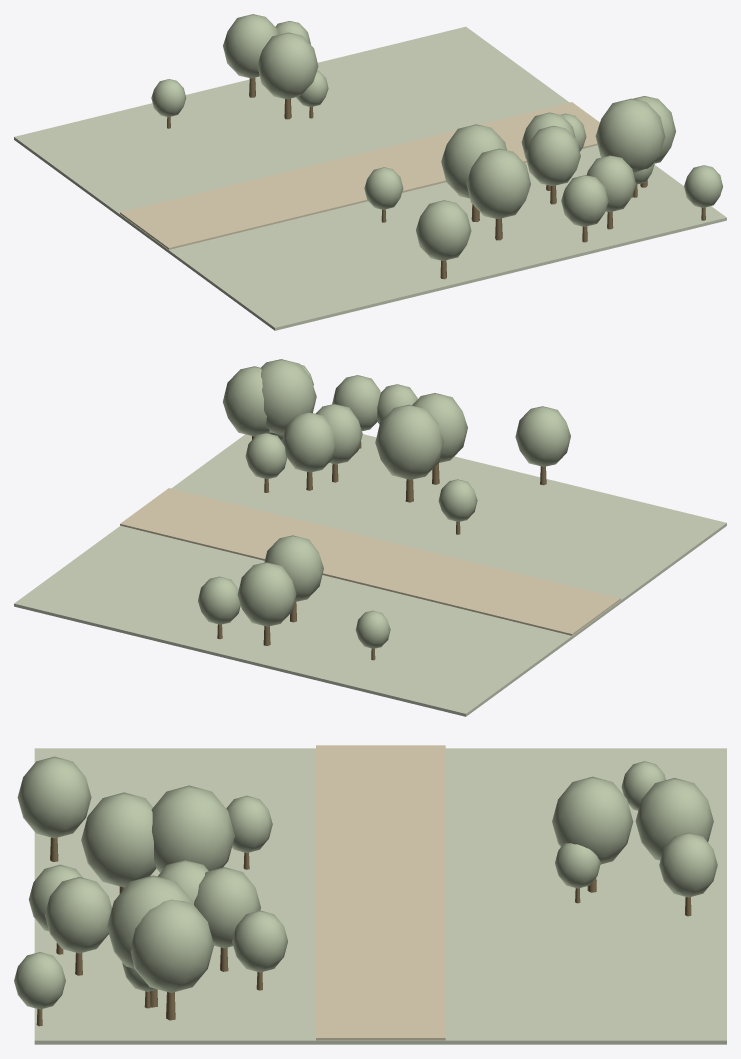
The picture shows the model from 3 angles, top to bottom: view 1: azimuth 30°, elevation 25°; view 2: azimuth 150°, elevation 25°; view 3: azimuth 270°, elevation 25°; orthographic projection. The views are drawn at different scales.
Visible parts, largest first — view 1: terrain, object 2, lod-near-14, lod-near-18, lod-near-24, lod-near-2, lod-near-0, lod-near-27, lod-near-20, lod-near-31, lod-near-12, lod-near-17 (+5 smaller); view 2: terrain, object 2, lod-near-27, lod-near-14, lod-near-20, lod-near-2, lod-near-28, lod-near-19, lod-near-24, lod-near-18, lod-near-12, lod-near-0 (+5 smaller); view 3: terrain, object 2, lod-near-19, lod-near-27, lod-near-18, lod-near-24, lod-near-2, lod-near-20, lod-near-12, lod-near-28, lod-near-14, lod-near-29 (+7 smaller).
Part boxes in pixels (x1,y1,x2,y2): terrain: (14,26,726,330); object 2: (120,102,599,249); lod-near-14: (595,98,665,173); lod-near-18: (466,148,530,219); lod-near-24: (257,32,318,99); lod-near-2: (416,200,471,260); lod-near-0: (525,126,580,186); lod-near-27: (441,124,506,198); lod-near-20: (223,14,278,78); lod-near-31: (561,175,608,226); lod-near-12: (587,155,635,212); lod-near-17: (684,165,722,207); terrain: (14,434,726,716); object 2: (120,488,620,635); lod-near-27: (375,404,443,479); lod-near-14: (260,359,316,435); lod-near-20: (237,562,296,626); lod-near-2: (515,406,570,466); lod-near-28: (282,412,335,472); lod-near-19: (223,366,270,436); lod-near-24: (264,535,323,601); lod-near-18: (412,393,467,462); lod-near-12: (332,375,380,431); lod-near-0: (315,404,362,464); terrain: (34,748,726,1044); object 2: (316,745,445,1040); lod-near-19: (130,899,213,992); lod-near-27: (151,785,234,872); lod-near-18: (81,792,156,887); lod-near-24: (552,776,633,864); lod-near-2: (17,756,91,838); lod-near-20: (635,778,713,860); lod-near-12: (45,877,111,953); lod-near-28: (194,867,260,948); lod-near-14: (107,875,193,969); lod-near-29: (659,832,717,897).
Bounding box in the file's own units: 32 × 6.77 × 32.95.
